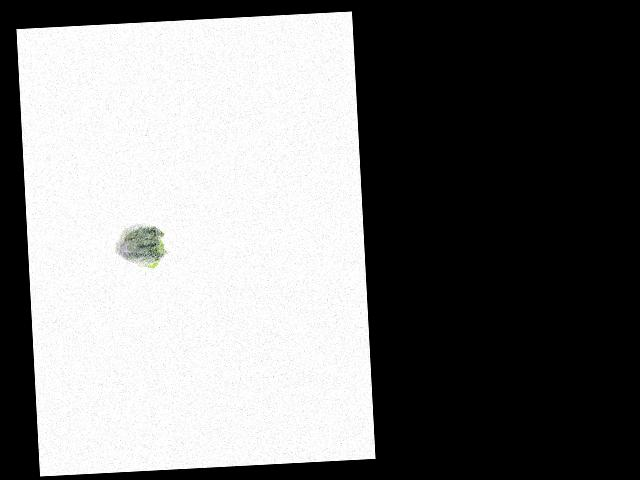lettuce: (113, 221, 167, 272)
